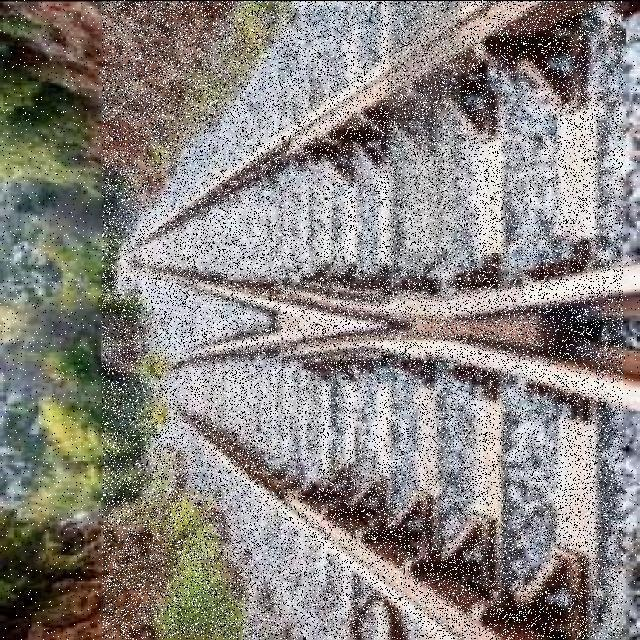rail: (104, 2, 624, 640)
